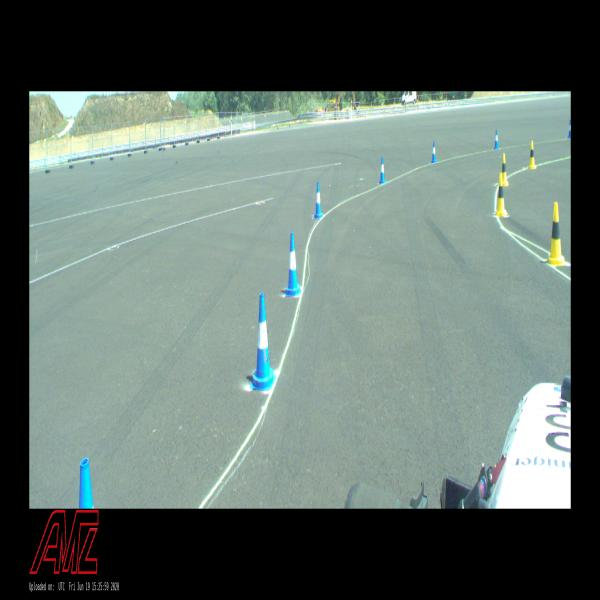blue_cone: (250, 293, 276, 390), (286, 232, 300, 296), (80, 458, 94, 509), (314, 182, 323, 218), (379, 156, 386, 184), (494, 129, 499, 149), (432, 141, 436, 163), (568, 120, 571, 138)
yellow_cone: (548, 203, 564, 265), (496, 174, 508, 216), (529, 141, 536, 168), (502, 154, 508, 185)
